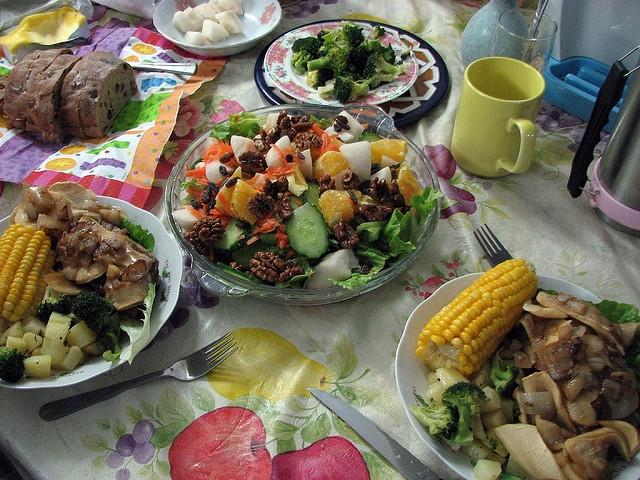broccoli: (442, 382, 491, 445), (410, 398, 460, 439), (72, 290, 116, 336), (306, 44, 352, 76), (490, 351, 520, 396), (38, 284, 71, 322), (0, 345, 30, 383), (363, 52, 404, 79), (291, 36, 322, 70), (333, 76, 369, 104), (316, 32, 344, 58), (336, 26, 366, 50), (352, 44, 374, 76), (306, 68, 335, 90), (369, 70, 395, 90), (376, 44, 396, 66), (394, 46, 412, 66), (317, 28, 332, 43), (372, 24, 386, 40)
corn: (415, 258, 538, 376), (1, 224, 56, 322)
cucumber: (285, 200, 330, 260), (303, 183, 333, 234), (213, 216, 244, 250)
potato: (40, 336, 70, 365), (66, 321, 98, 348), (52, 346, 84, 370), (436, 368, 470, 390), (472, 459, 502, 480), (0, 320, 24, 346), (44, 320, 71, 343), (24, 356, 52, 378), (20, 314, 46, 334), (483, 410, 508, 430), (23, 332, 43, 354), (6, 336, 28, 355), (426, 385, 445, 406), (48, 310, 71, 326), (474, 415, 486, 441), (82, 340, 99, 356), (76, 352, 89, 366), (30, 345, 42, 357)
